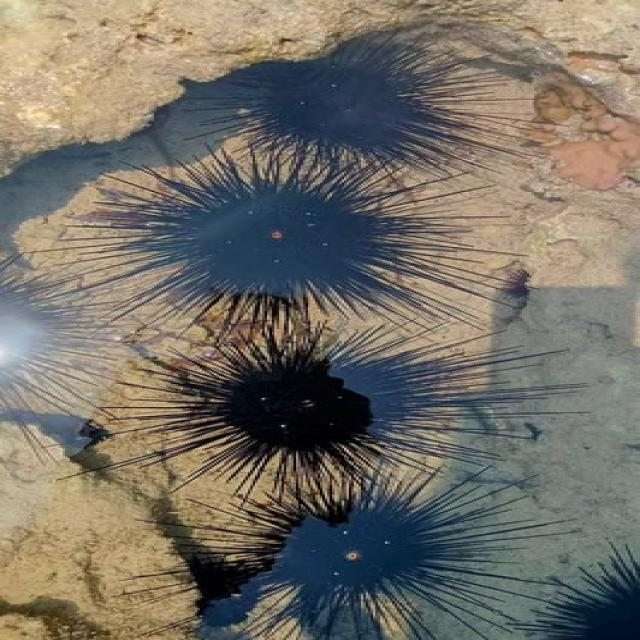Urchin: (65, 318, 587, 497), (74, 148, 554, 332), (118, 463, 570, 640), (173, 23, 570, 186)
